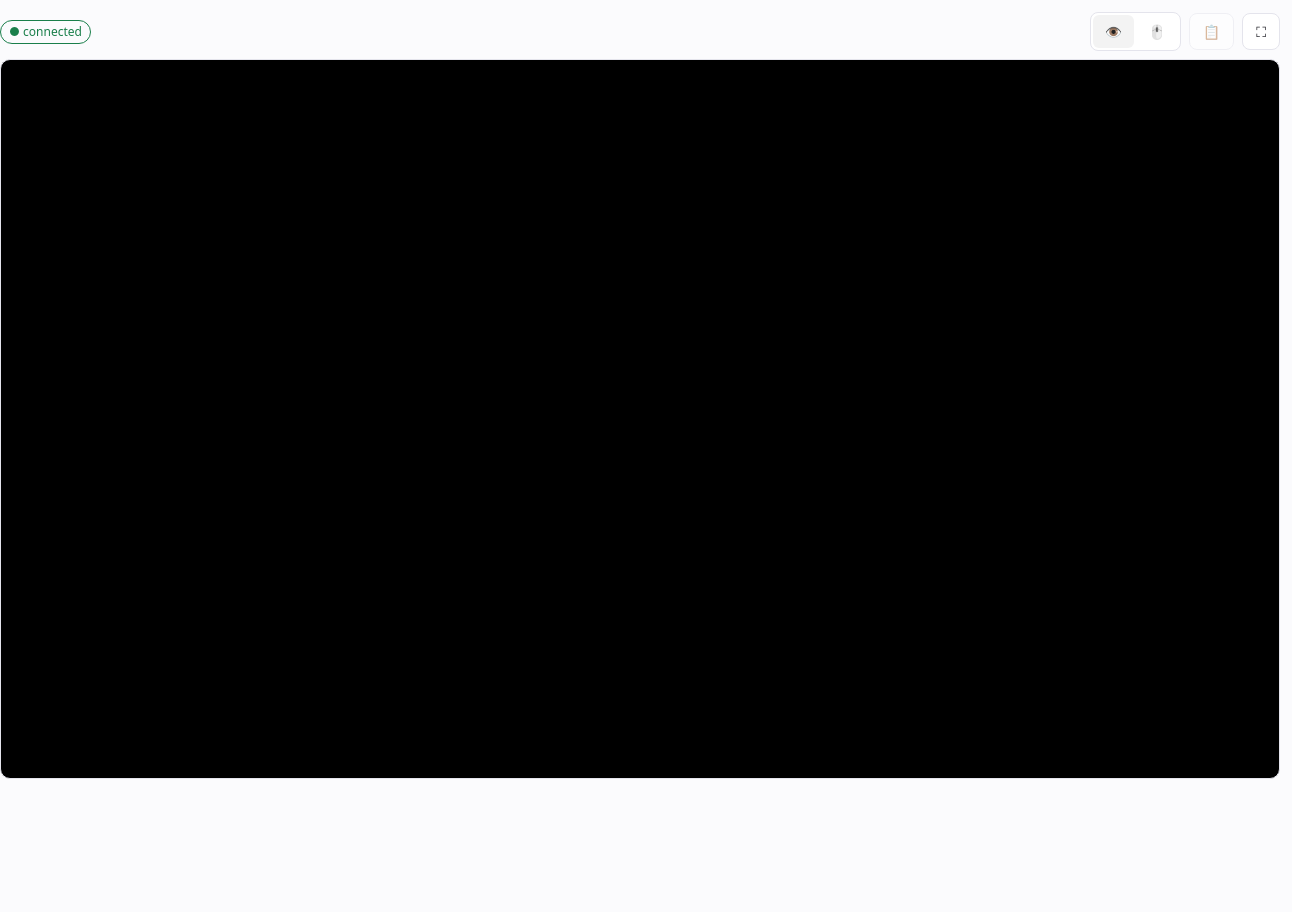
Test: says it is waiting for the agent, keeps Watch reachable and paste greyed
Expected: the text "● connected" is shown, x1=0 y1=20 x2=91 y2=44
Step 1. Click the button named "Control" → x=1157, y=32, box x1=1136 y1=15 x2=1178 y2=48
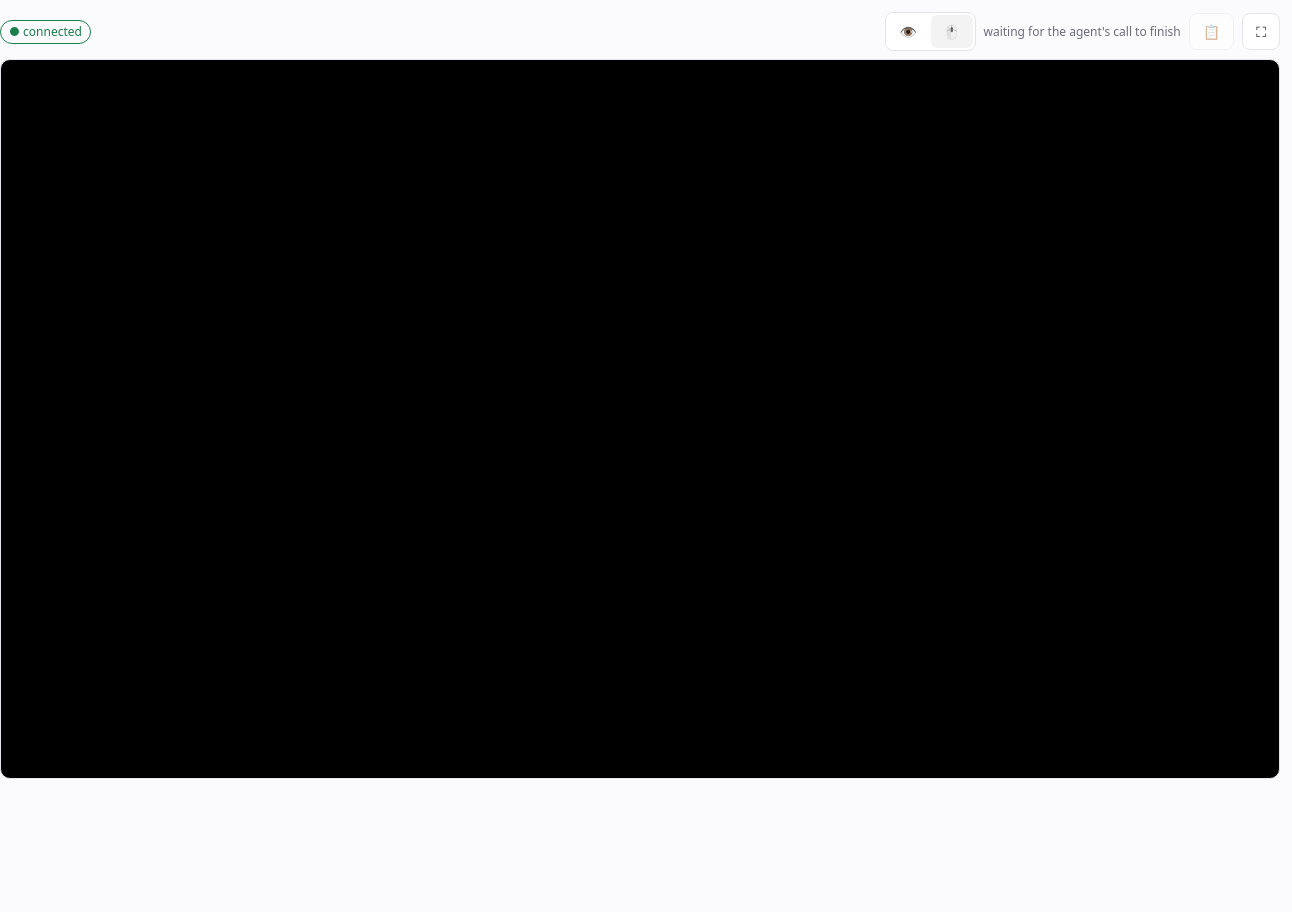
Expected: the button named "Paste" is disabled, x1=1189 y1=13 x2=1234 y2=50
Expected: the text "waiting for the agent's call to finish" is shown, x1=984 y1=22 x2=1181 y2=40
Step 2. Click the button named "Watch" → x=908, y=32, box x1=888 y1=15 x2=929 y2=48
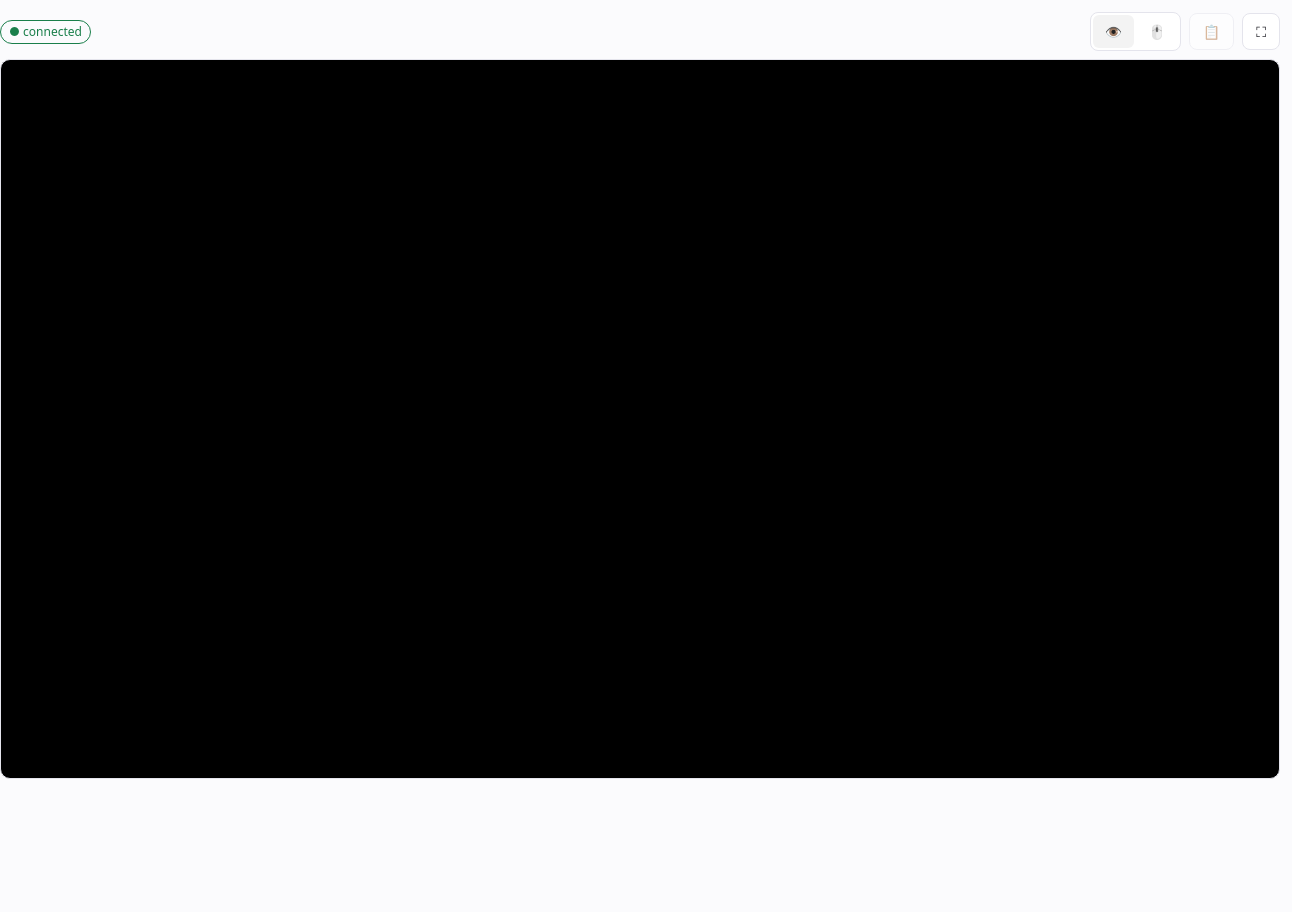
Expected: the text "waiting for the agent's call to finish" is gone
